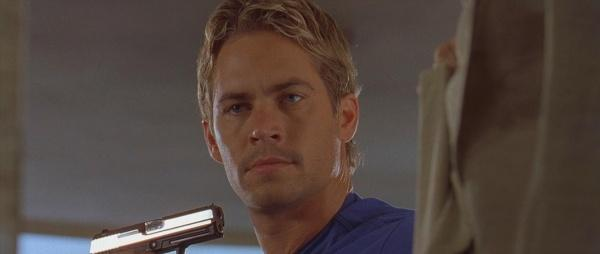Gun: (90, 204, 227, 254)
